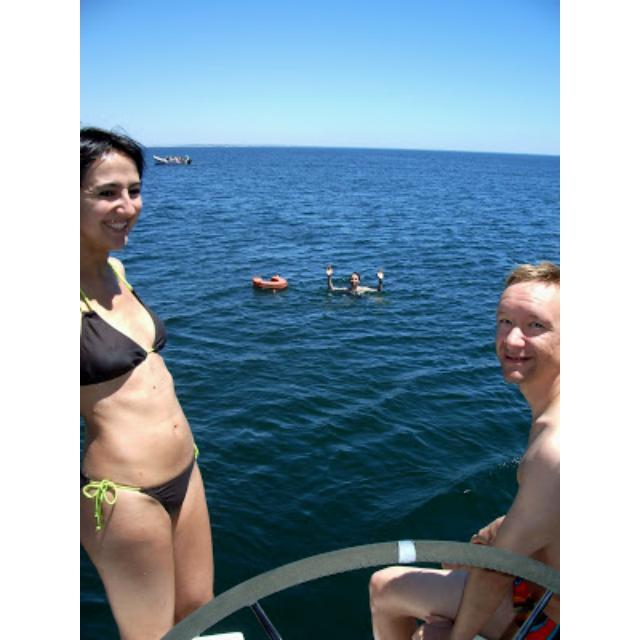human: (81, 127, 215, 635), (462, 252, 559, 640), (328, 259, 387, 302)
